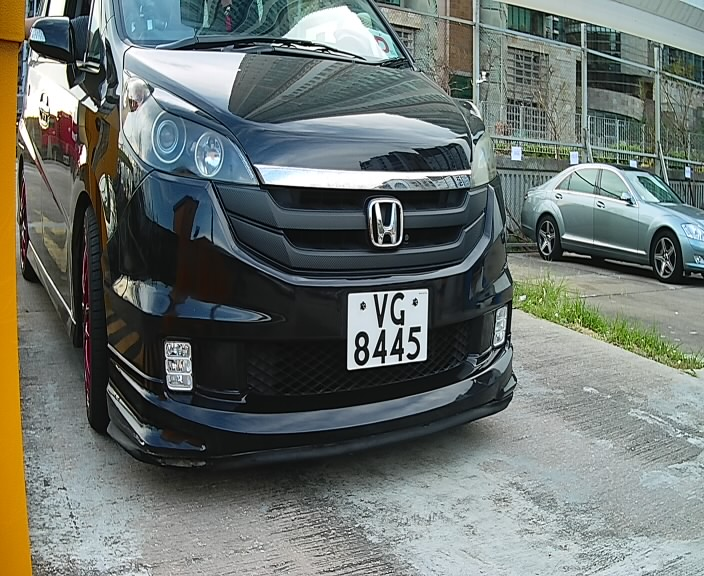License Plate: (334, 280, 433, 376)
